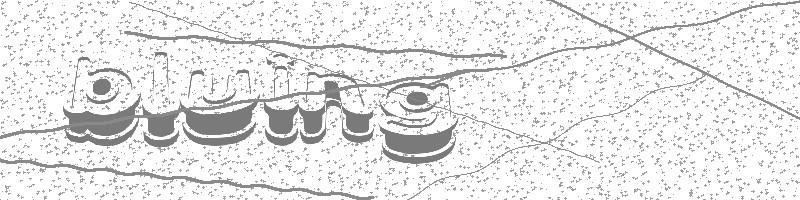b: (62, 57, 139, 145)
g: (378, 81, 455, 165)
i: (258, 52, 299, 149)
l: (142, 51, 181, 149)
n: (300, 69, 377, 145)
u: (181, 69, 258, 146)
